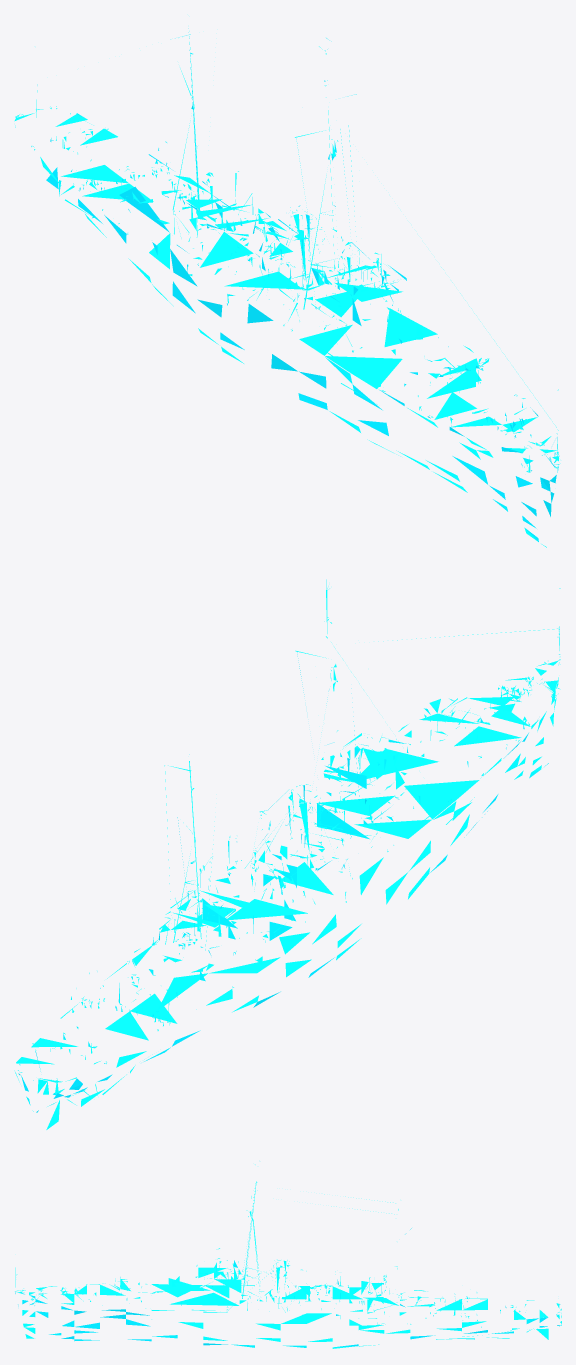
File: Black_Swan.glb
The picture shows the model from 3 angles, top to bottom: view 1: azimuth 30°, elevation 25°; view 2: azimuth 150°, elevation 25°; view 3: azimuth 270°, elevation 25°; orthographic projection. The views are drawn at different scales.
Bounding box in the file's own units: 0.7932 × 2.23 × 6.09.
